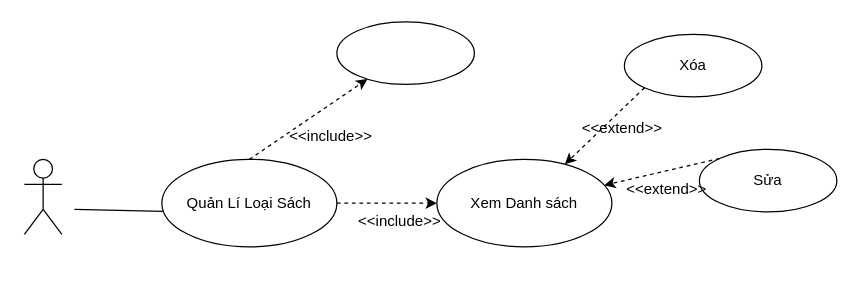
The diagram is 859 pixels wide and 283 high, and some of its shapes have lost their labels. Here are the shapes that lost their labels. From the top down, the centre of each, then its label:
the point at 405,52: Thêm
the point at 42,196: Admin
